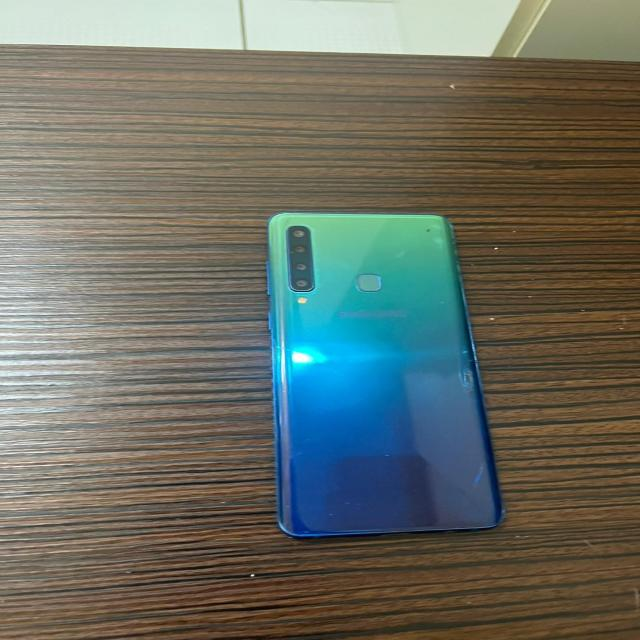Smartphone: (264, 210, 507, 538)
